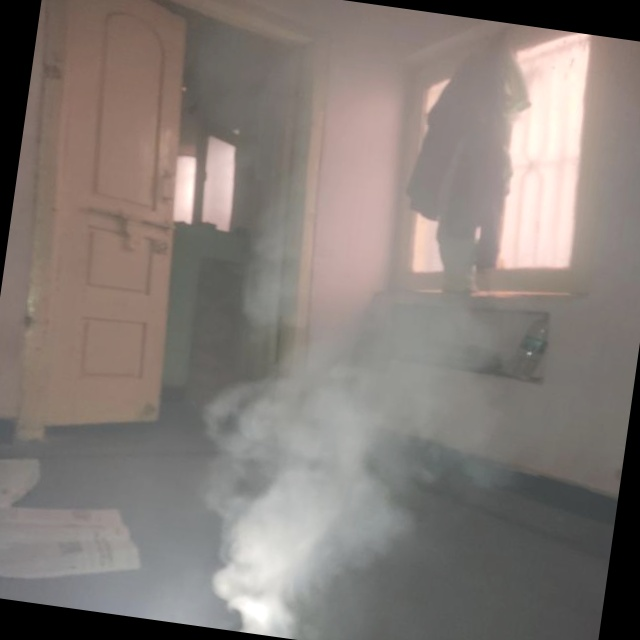smoke: (181, 297, 455, 640)
